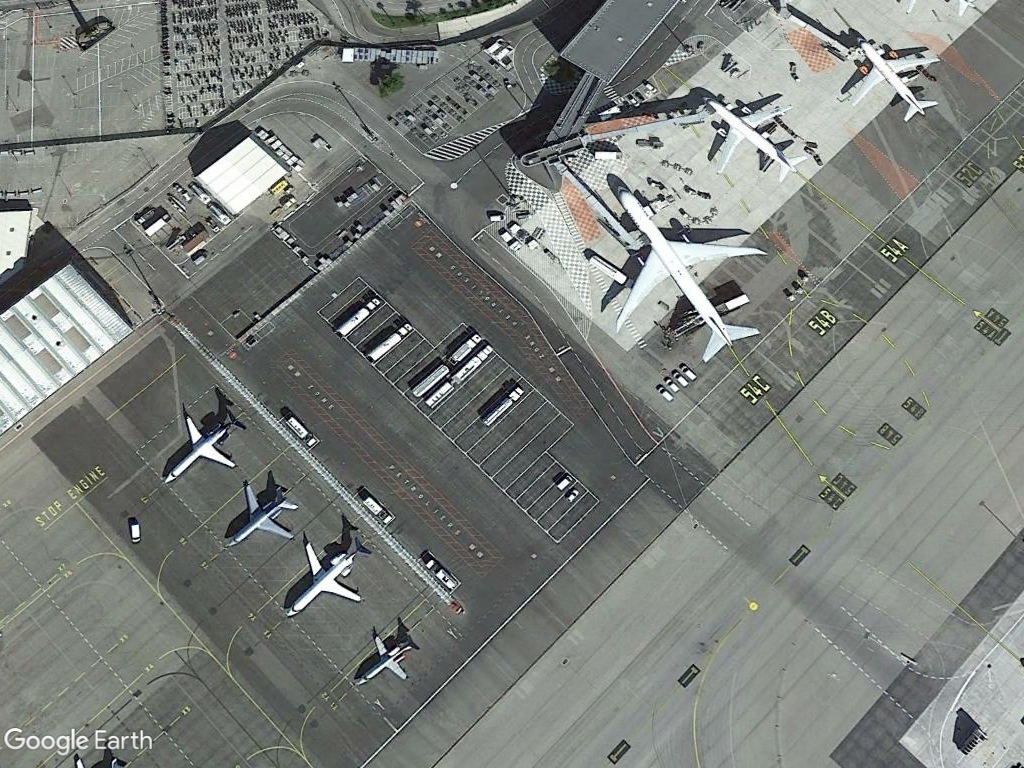airliner: (599, 179, 772, 368), (699, 90, 810, 182), (841, 30, 944, 129)
chartered: (281, 532, 378, 624), (152, 405, 241, 489), (220, 470, 299, 555), (349, 628, 423, 690)
